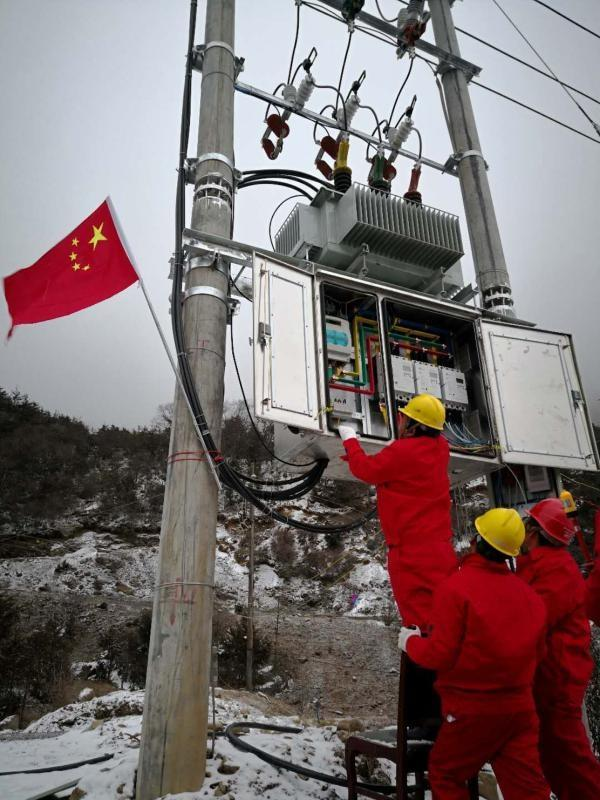helmet: (473, 509, 535, 555), (398, 399, 453, 434)
person: (361, 392, 471, 724), (433, 507, 547, 800)
